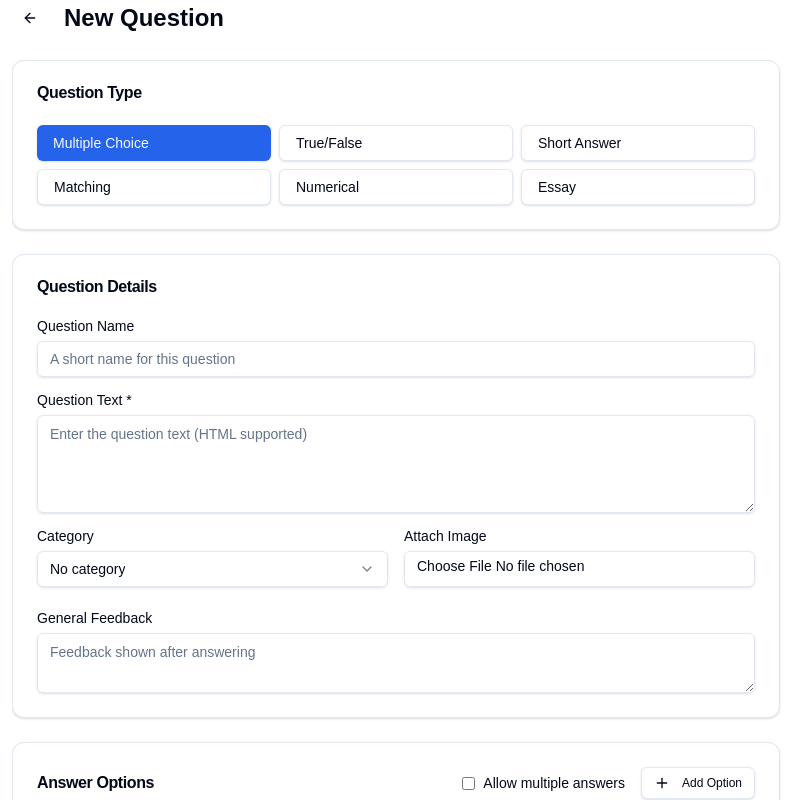
it: QuestionForm › should switch to Essay view with no answer fields
The image size is (797, 800).
Click the button "Essay" at (638, 187), box [521,169,755,205]
(page scrolled)
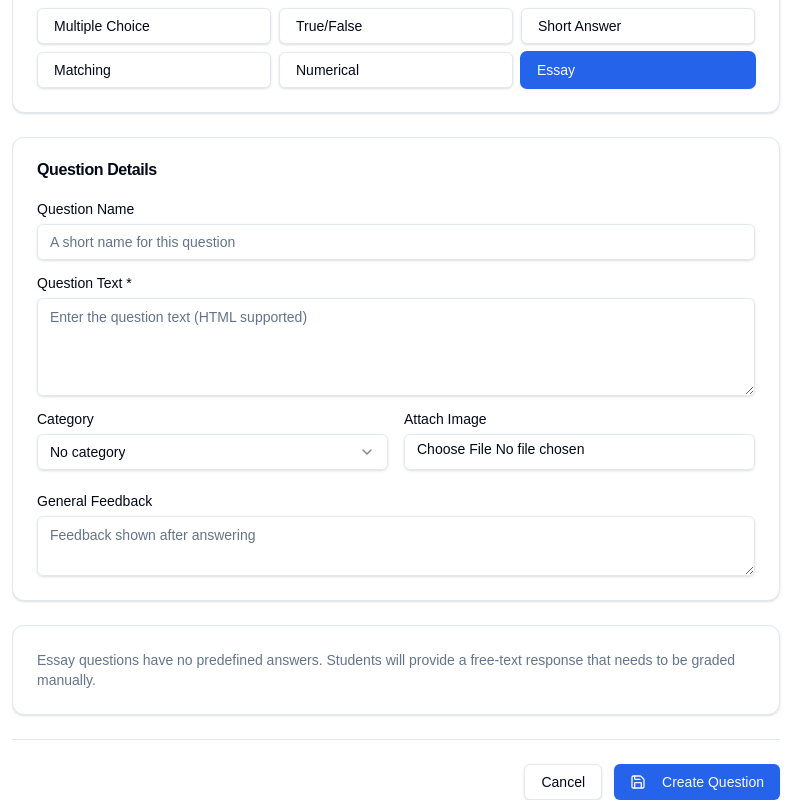
Now the text "Essay questions have no predefined answers" is shown, box [37,652,735,688]
